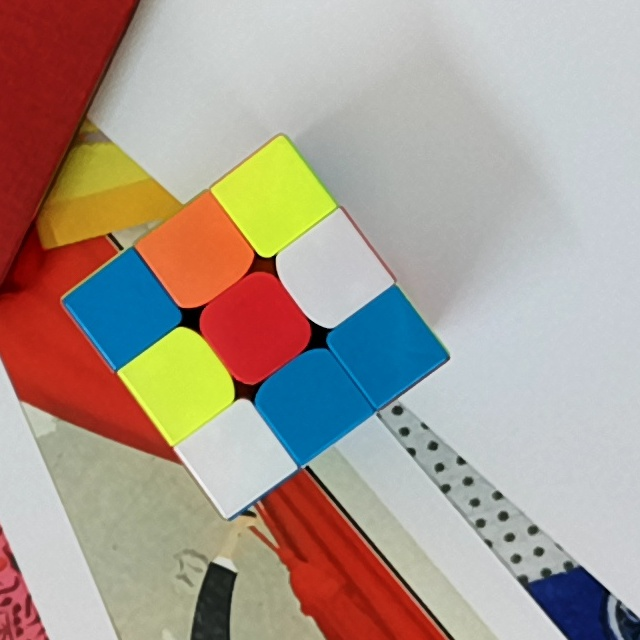tile: (150, 350, 215, 415), (223, 295, 288, 359), (299, 237, 361, 304), (169, 221, 231, 288), (284, 366, 345, 434), (96, 275, 156, 343), (356, 315, 419, 377), (241, 168, 302, 231), (204, 424, 265, 487)
